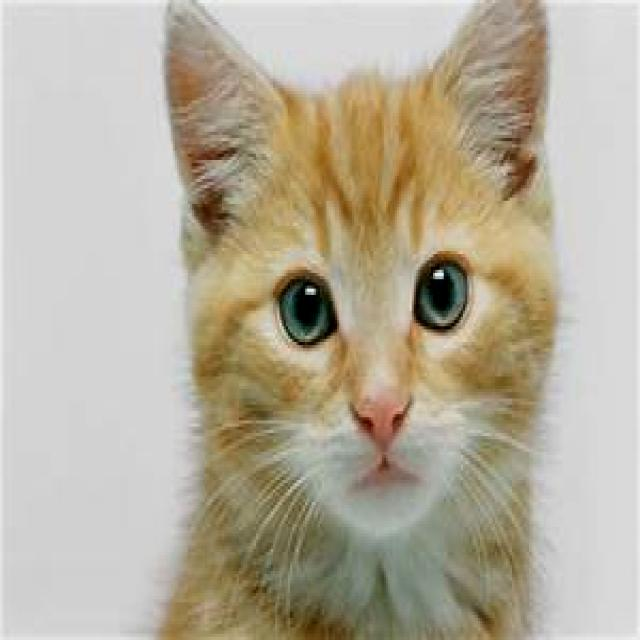KEDI: (147, 0, 555, 640)
